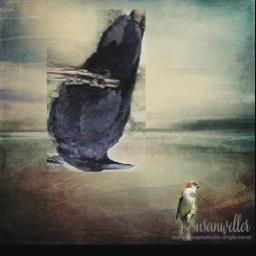Crow: (48, 11, 146, 173)
Sparrow: (175, 181, 199, 242)
